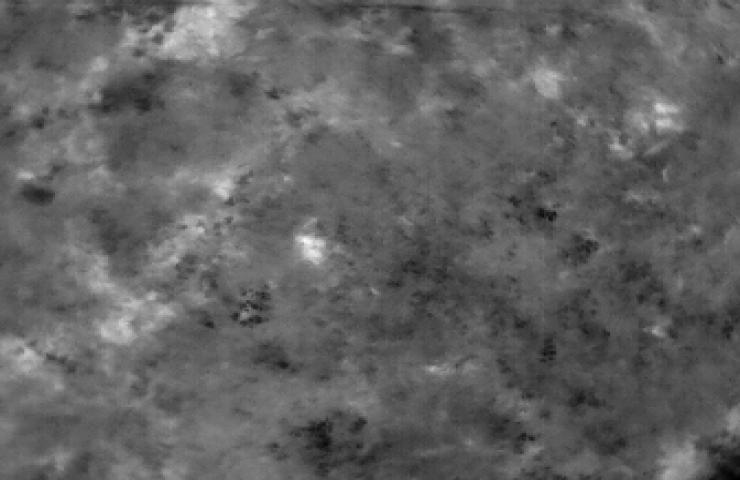landmines: (295, 231, 333, 265)
